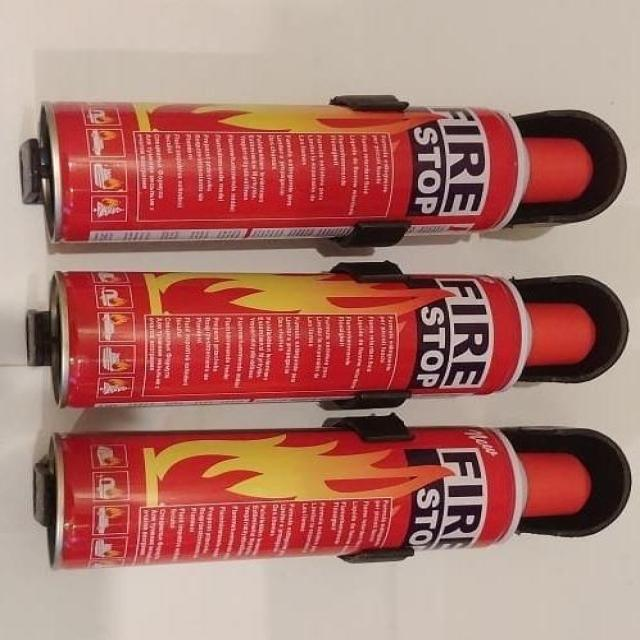fire_extinguisher: (32, 84, 639, 250), (37, 419, 599, 577), (36, 264, 598, 411)
